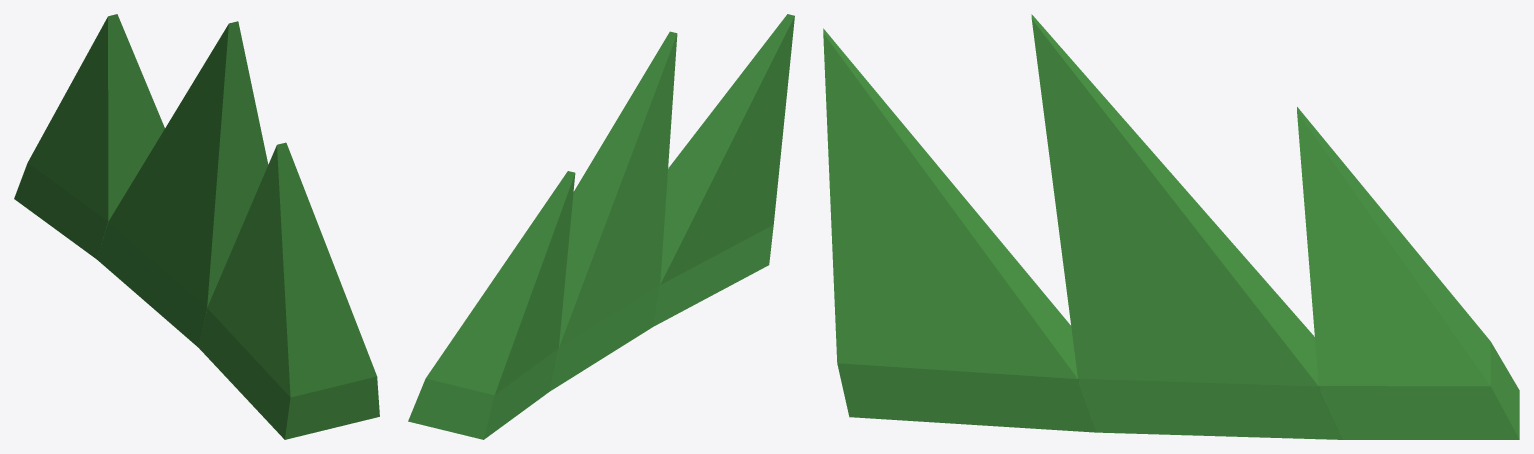
File: Grass2.fbx
3 views of the same model, side by side, from view 1: azimuth 30°, elevation 25°; view 2: azimuth 150°, elevation 25°; view 3: azimuth 270°, elevation 25° (orthographic). The views are drawn at different scales.
Visible parts, largest first — view 1: Cube; view 2: Cube; view 3: Cube.
Boxes of the visible parts, left/top/right/bottom form: Cube: left=14, top=14, right=379, bottom=439; Cube: left=408, top=14, right=794, bottom=439; Cube: left=823, top=14, right=1519, bottom=439.
Bounding box in the file's own units: 0.00199 × 0.00414 × 0.00707.
